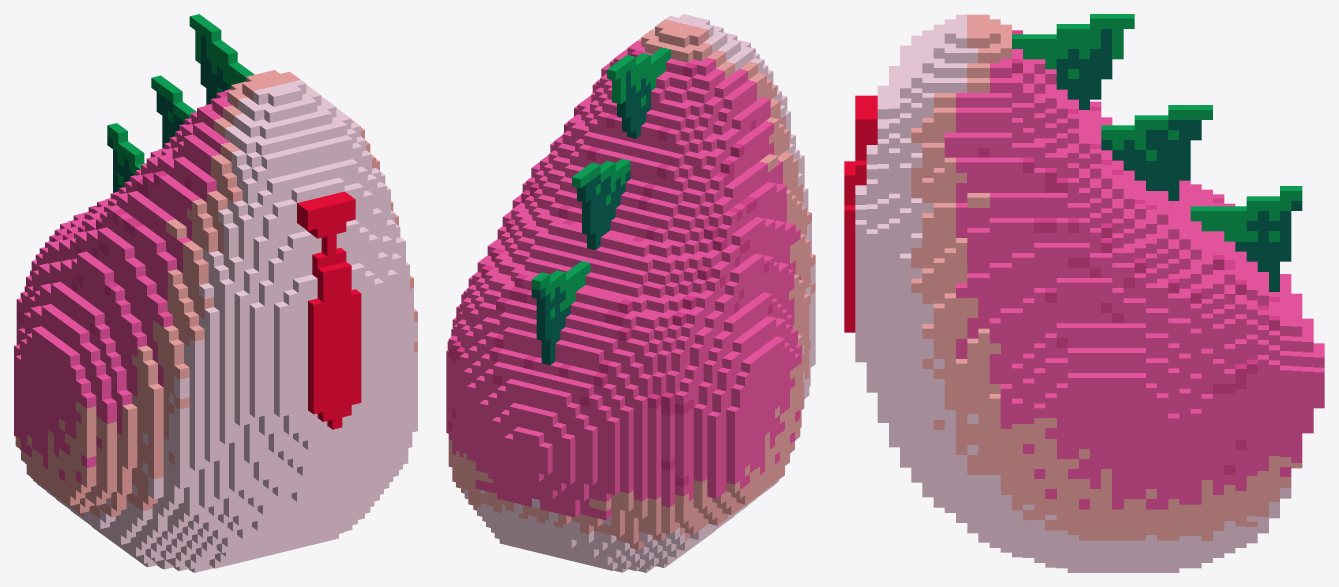
Rendered from red tie.gltf.
3 views of the same model, side by side, from view 1: azimuth 30°, elevation 25°; view 2: azimuth 150°, elevation 25°; view 3: azimuth 270°, elevation 25° (orthographic). The views are drawn at different scales.
Visible parts, largest first — view 1: 04_Body_RedTie-Mesh; view 2: 04_Body_RedTie-Mesh; view 3: 04_Body_RedTie-Mesh.
Part boxes in pixels (x1=…): 04_Body_RedTie-Mesh: x1=14, y1=14, x2=417, y2=572; 04_Body_RedTie-Mesh: x1=446, y1=14, x2=815, y2=572; 04_Body_RedTie-Mesh: x1=844, y1=14, x2=1324, y2=572.
Size of the model in its own units: 33 by 51 by 43.
Materials: 1 (1 with a texture image).
